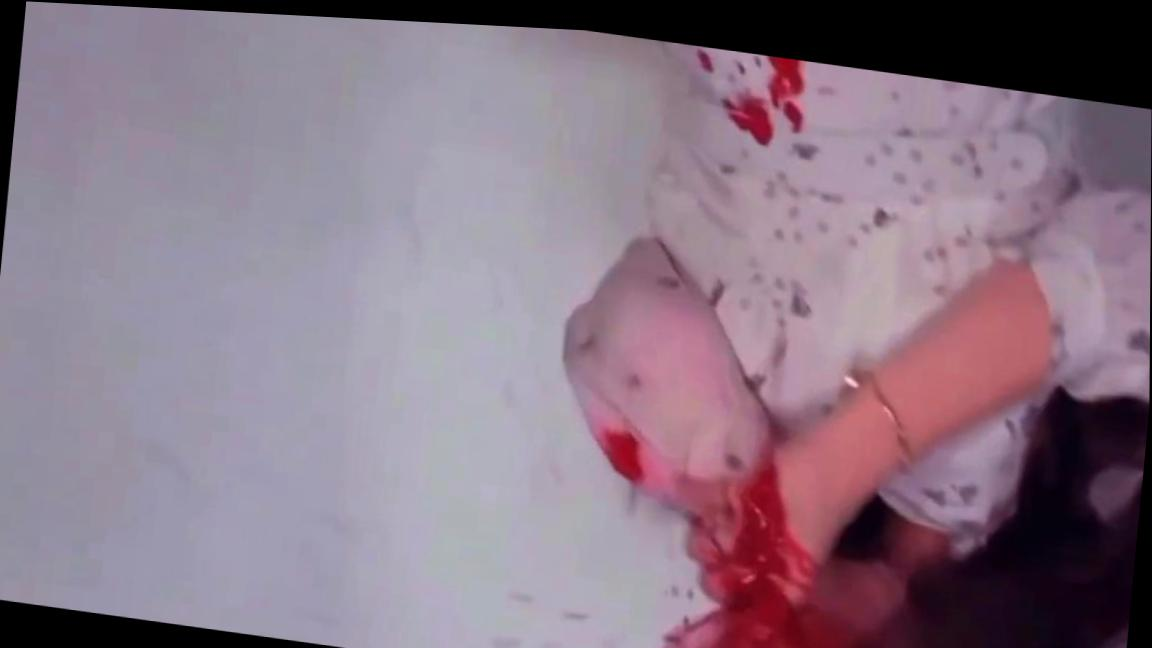Fire: (664, 411, 850, 648), (666, 34, 807, 140), (689, 107, 753, 174), (594, 421, 662, 479)
